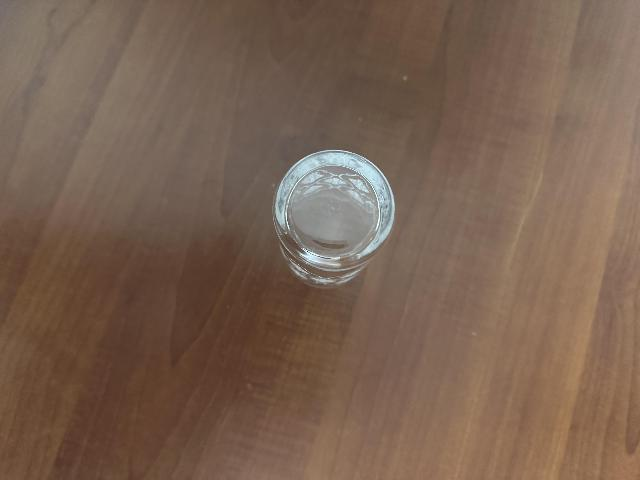Cam: (276, 144, 395, 276)
